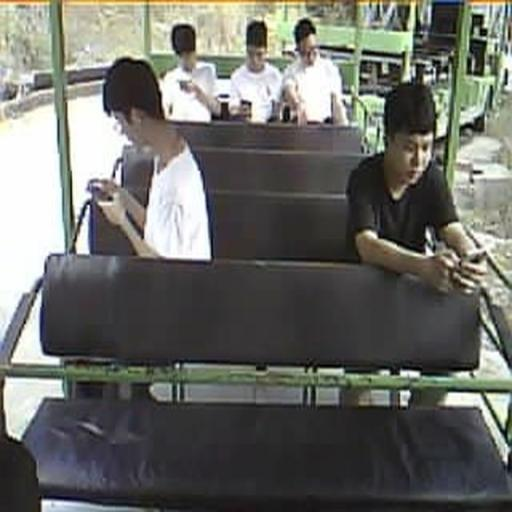persona: (345, 82, 488, 296), (88, 56, 213, 262), (280, 18, 348, 125), (160, 22, 218, 123), (228, 19, 283, 123)
